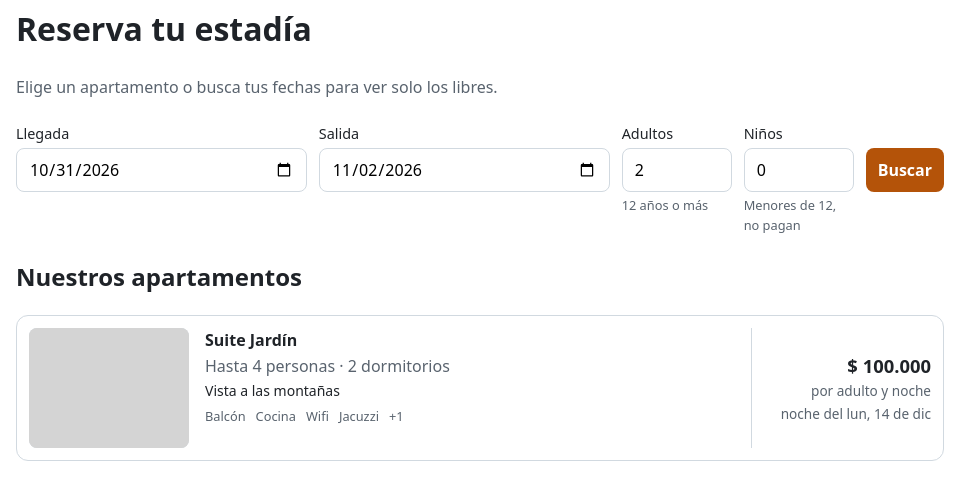
Test: Inicio › si no hay libres lo dice y sugiere cambiar la búsqueda
Expected: the heading "Nuestros apartamentos" is shown, [16,260,302,293]
Click the button "Buscar" at (905, 170), box [866,148,944,192]
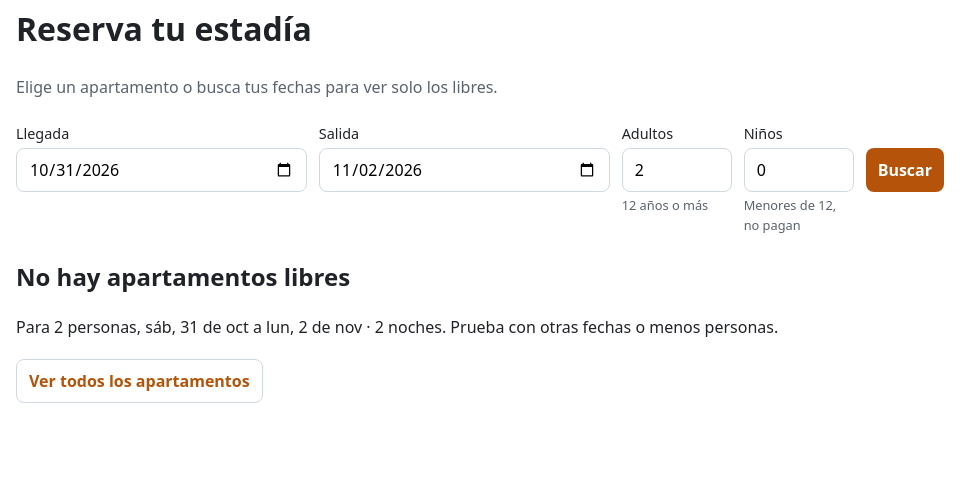
Expected: the heading "No hay apartamentos libres" is shown, [16,260,350,293]
Expected: the text "Prueba con otras fechas" is shown, [442,316,778,338]
